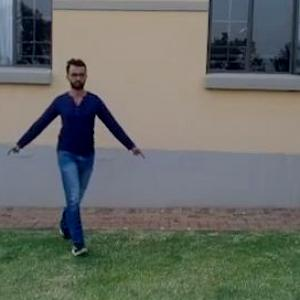land: (22, 67, 127, 227)
